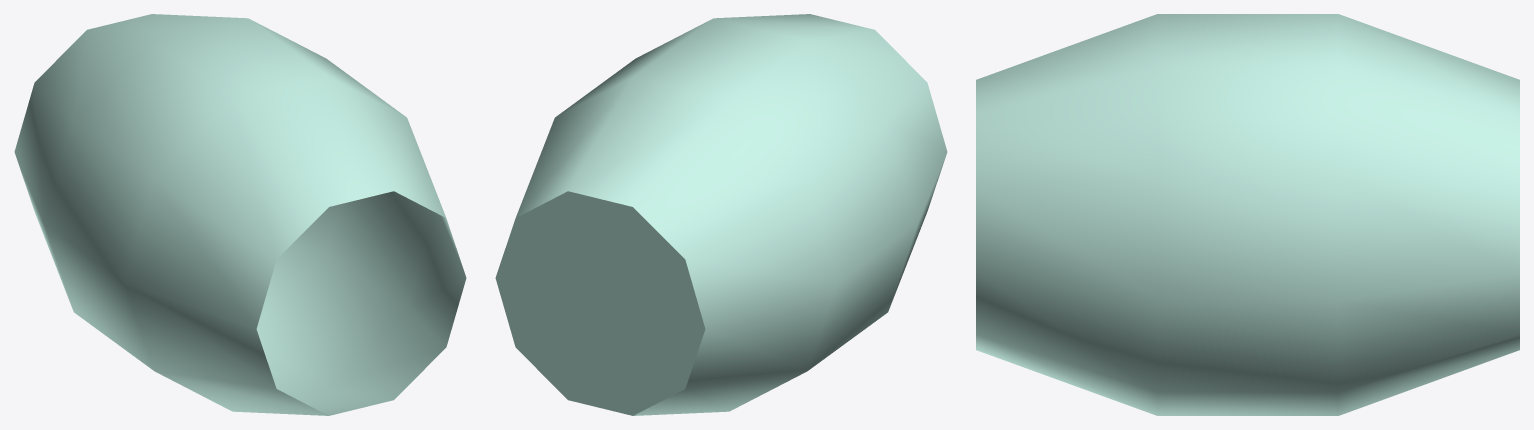
3 views of the same model, side by side, from view 1: azimuth 30°, elevation 25°; view 2: azimuth 150°, elevation 25°; view 3: azimuth 270°, elevation 25° (orthographic). The views are drawn at different scales.
Visible parts, largest first — view 1: Object103; view 2: Object103; view 3: Object103.
Part boxes in pixels (box(x1,y1,x2,y2)): Object103: box(14, 14, 466, 415); Object103: box(495, 14, 947, 415); Object103: box(976, 14, 1519, 415).
Bounding box in the file's own units: 6496 × 6178 × 8722.
